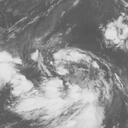cyclone: (4, 50, 114, 127)
